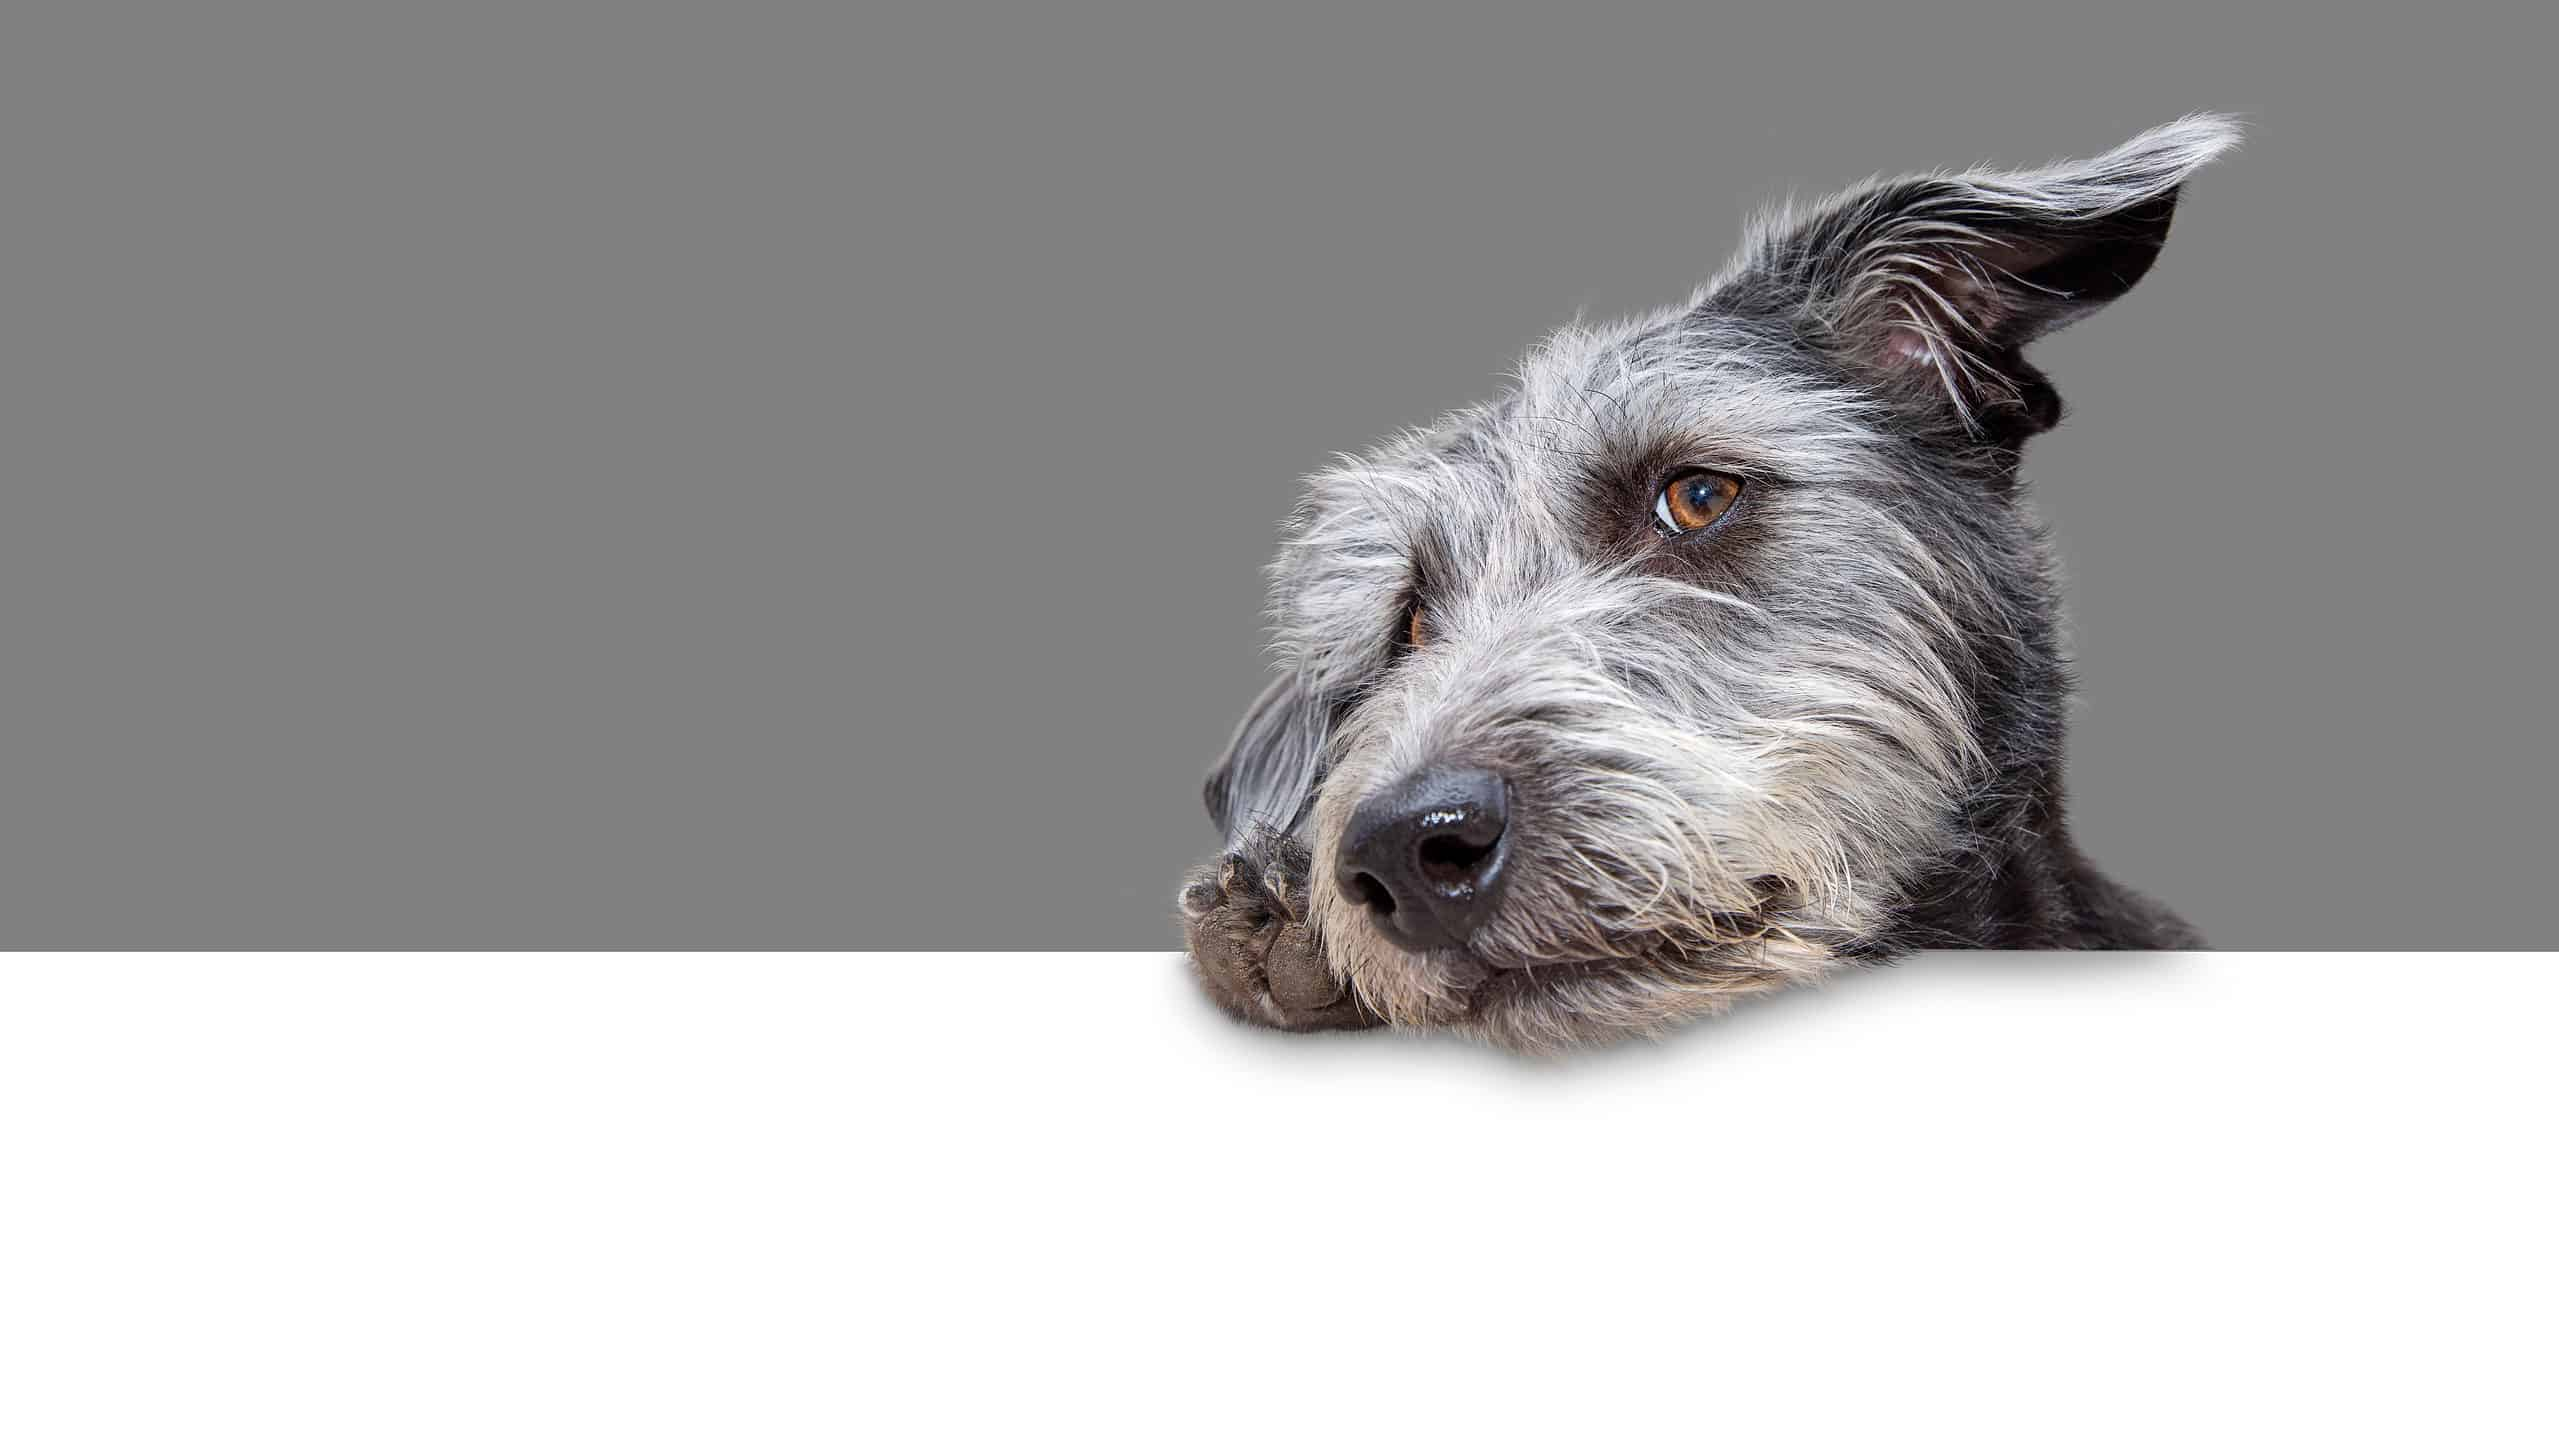dog: (1165, 114, 2237, 1080)
